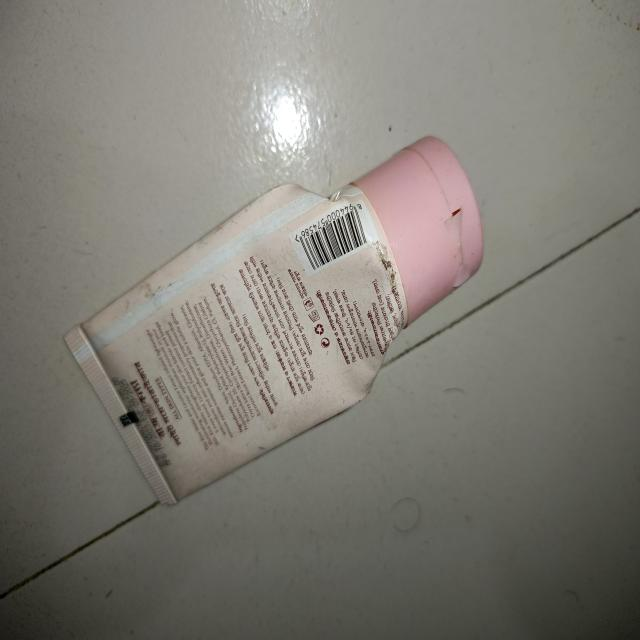Squeeze Tube: (62, 132, 484, 519)
